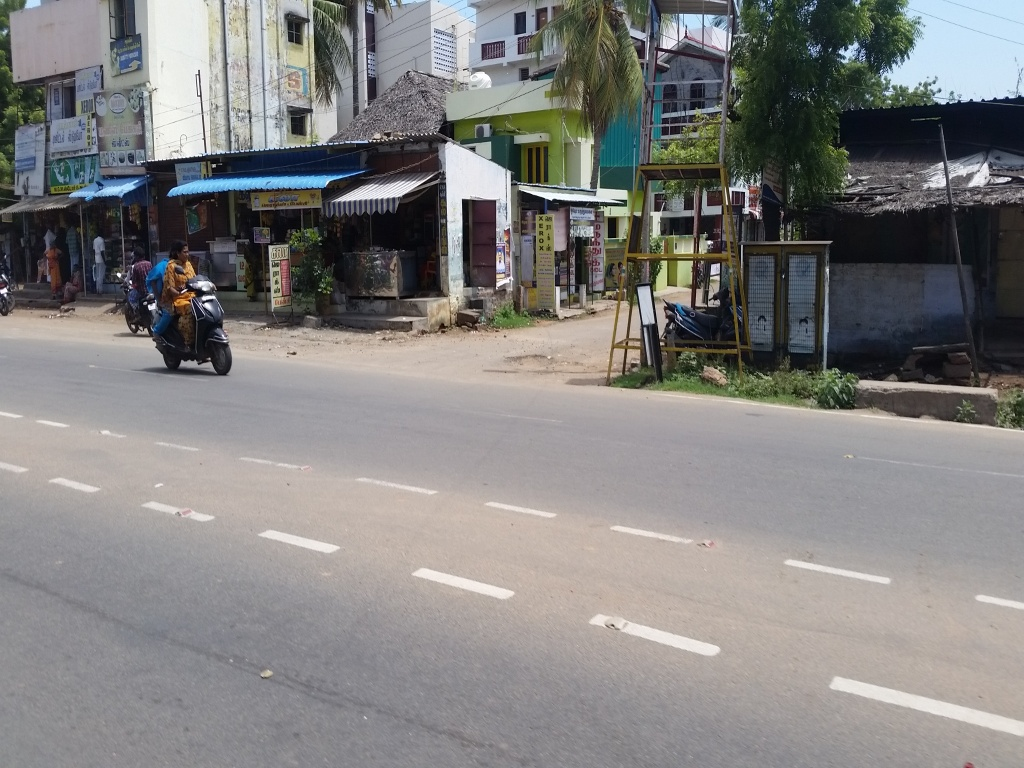biker: (137, 223, 245, 384)
nohelmet: (165, 237, 196, 271)
